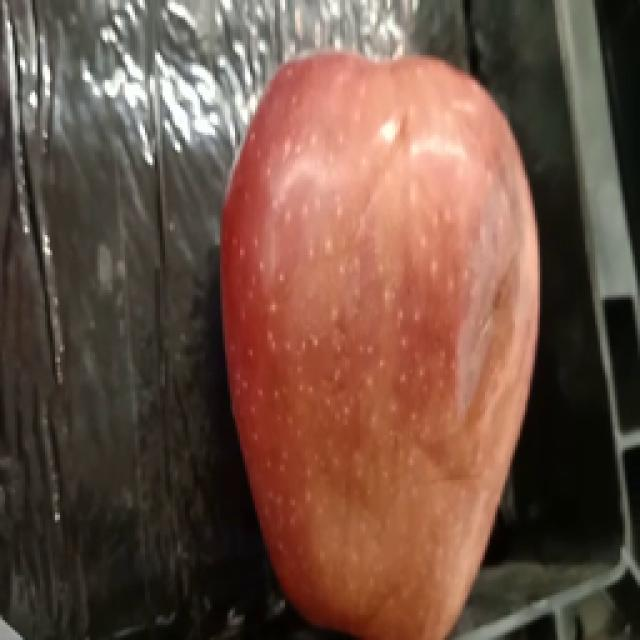Fresh_Apple: (208, 42, 549, 640)
